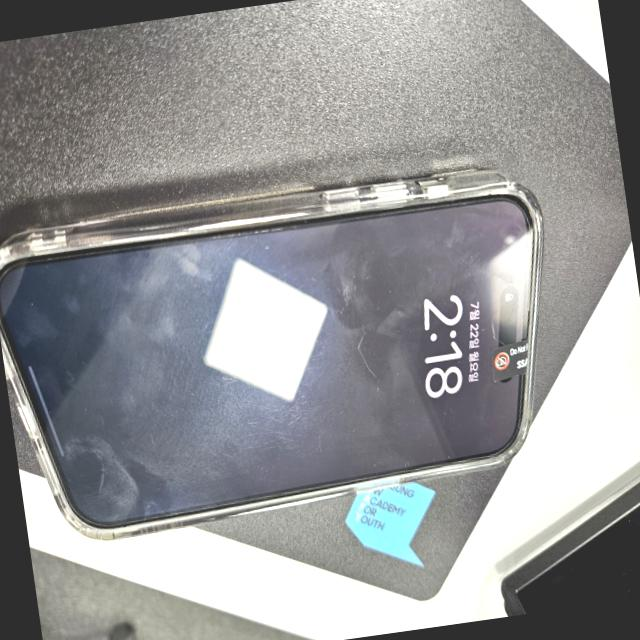phone: (0, 149, 576, 554)
sticker: (486, 334, 544, 386)
